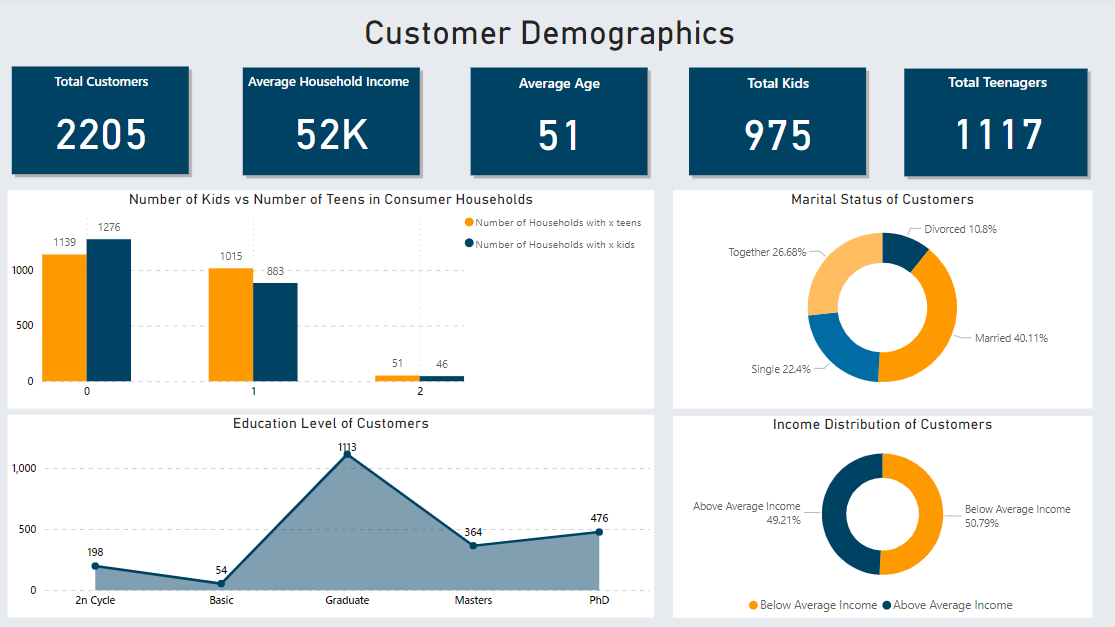

The page's visual inventory and layout, read from the dashboard file:
{"tool":"powerbi","page":{"name":"Customer Demographics","canvas":[1280,720],"ordinal":0},"visuals":[{"type":"textbox","box":[9.6,13.2,1239.4,55.2],"z":0},{"type":"shape","box":[1029.4,76.8,219.6,133.2],"z":1000},{"type":"shape","box":[273.6,75.6,212.4,133.2],"z":3000},{"type":"shape","box":[533.9,75.6,212.4,133.2],"z":4000},{"type":"shape","box":[783.5,75.6,212.4,133.2],"z":5000},{"type":"card","title":"Average Household Income","fields":{"Values":["Avg(ifood_df.Income)"]},"box":[279.6,85.2,199.2,111.6],"z":6000},{"type":"card","title":"Total Kids","fields":{"Values":["Sum(ifood_df.Kidhome)"]},"box":[790.7,86.4,199.2,111.6],"z":7000},{"type":"card","title":"Total Teenagers","fields":{"Values":["Sum(ifood_df.Teenhome)"]},"box":[1039,85.2,204,110.4],"z":8000},{"type":"card","title":"Average Age","fields":{"Values":["Avg(ifood_df.Age)"]},"box":[541.1,86.4,198,111.6],"z":9000},{"type":"areaChart","title":"Education Level of Customers","fields":{"Category":["ifood_df.Education Level"],"Y":["CountNonNull(ifood_df.Recency)"]},"box":[9.6,477.5,739.1,231.6],"z":10000},{"type":"clusteredColumnChart","title":"Number of Kids vs Number of Teens in Consumer Households","fields":{"Category":["Cluters of Kids and Teens.Number"],"Y":["Sum(Cluters of Kids and Teens.Count of Teens)","Sum(Cluters of Kids and Teens.Count of Kids)"]},"box":[9.6,220.8,739.1,249.6],"z":11000},{"type":"donutChart","title":"Marital Status of Customers","fields":{"Y":["Sum(ifood_df.marital_Divorced)","Sum(ifood_df.marital_Married)","Sum(ifood_df.marital_Single)","Sum(ifood_df.marital_Together)"]},"box":[770.3,220.8,478.7,249.6],"z":12000},{"type":"donutChart","title":"Income Distribution of Customers","fields":{"Category":["ifood_df.Income Status"],"Y":["CountNonNull(ifood_df.Income Status)"]},"box":[770.3,478.7,478.7,230.4],"z":13000},{"type":"shape","box":[9.6,74.4,212.4,133.2],"z":13001},{"type":"card","title":"Total Customers","fields":{"Values":["CountNonNull(ifood_df.Income)"]},"box":[18,85.2,198,111.6],"z":13002}]}

Visuals, with their boxes in screenshot pixels (x1, y1, x2, y2), scaled from the page's 1280x720 canvas onto the 1115x627 screenshot:
textbox: [8,11,1088,60]
shape: [897,67,1088,183]
shape: [238,66,423,182]
shape: [465,66,650,182]
shape: [683,66,868,182]
"Average Household Income" card: [244,74,417,171]
"Total Kids" card: [689,75,862,172]
"Total Teenagers" card: [905,74,1083,170]
"Average Age" card: [471,75,644,172]
"Education Level of Customers" areaChart: [8,416,652,618]
"Number of Kids vs Number of Teens in Consumer Households" clusteredColumnChart: [8,192,652,410]
"Marital Status of Customers" donutChart: [671,192,1088,410]
"Income Distribution of Customers" donutChart: [671,417,1088,618]
shape: [8,65,193,181]
"Total Customers" card: [16,74,188,171]
